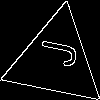J: (30, 35, 79, 69)
